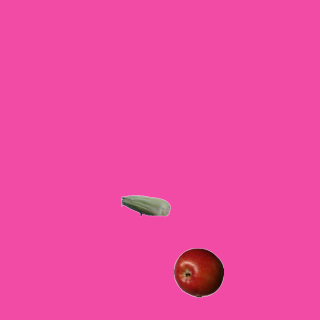Apple Braeburn: (173, 247, 223, 297)
Corn Husk: (120, 180, 170, 230)
